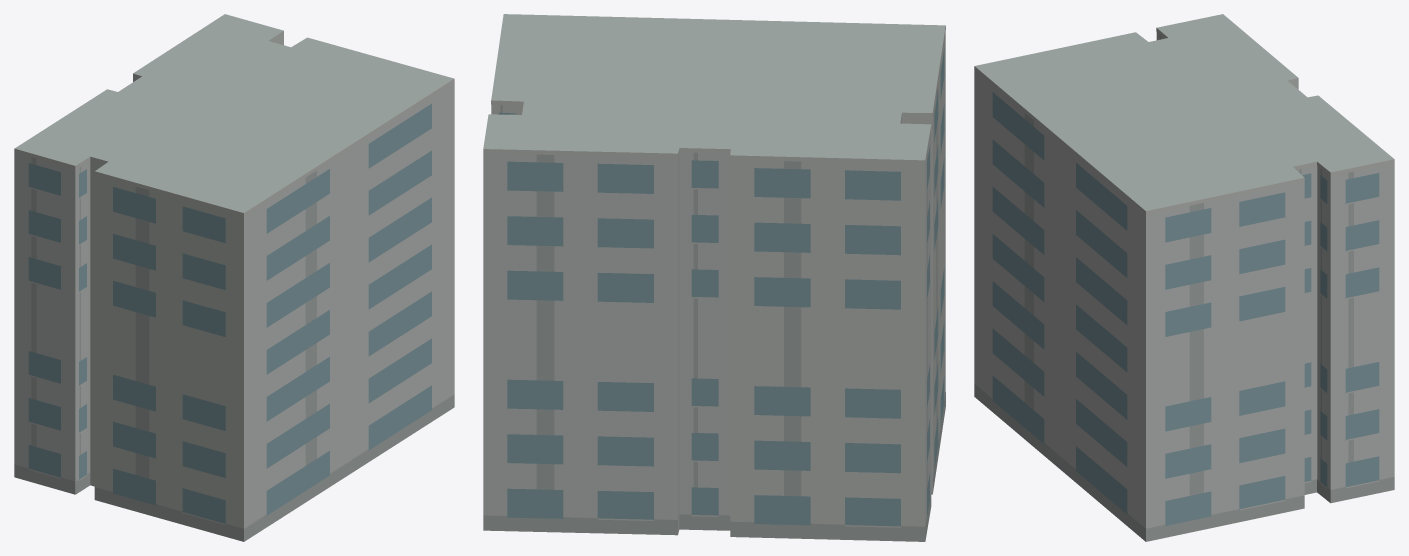
Rendered from survey-upis-33000693.glb.
3 renders of one model, left to right at view 1: azimuth 30°, elevation 25°; view 2: azimuth 150°, elevation 25°; view 3: azimuth 270°, elevation 25°, orthographic. The views are drawn at different scales.
Visible parts, largest first — view 1: survey-upis-33000693.tmp; view 2: survey-upis-33000693.tmp; view 3: survey-upis-33000693.tmp.
Part boxes in pixels (left/top/right/bottom): survey-upis-33000693.tmp: left=14, top=14, right=454, bottom=541; survey-upis-33000693.tmp: left=483, top=14, right=945, bottom=541; survey-upis-33000693.tmp: left=974, top=14, right=1394, bottom=541.
Size of the model in its own units: 27.18 by 21.25 by 24.47.
